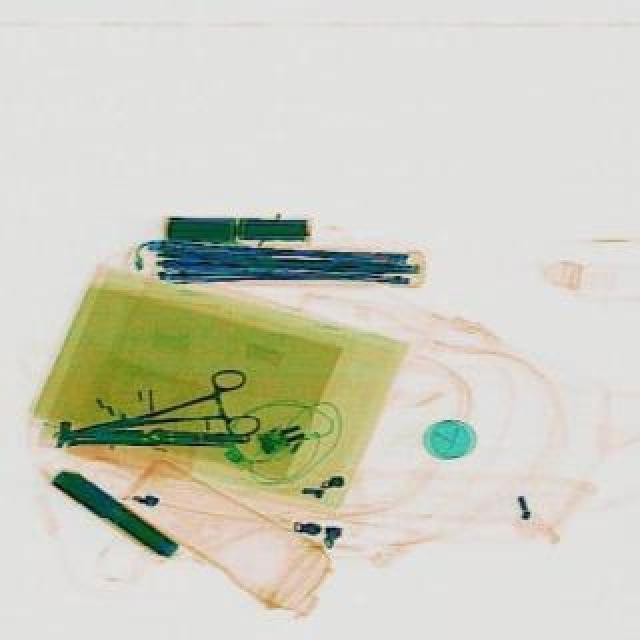pliers: (56, 370, 262, 472)
